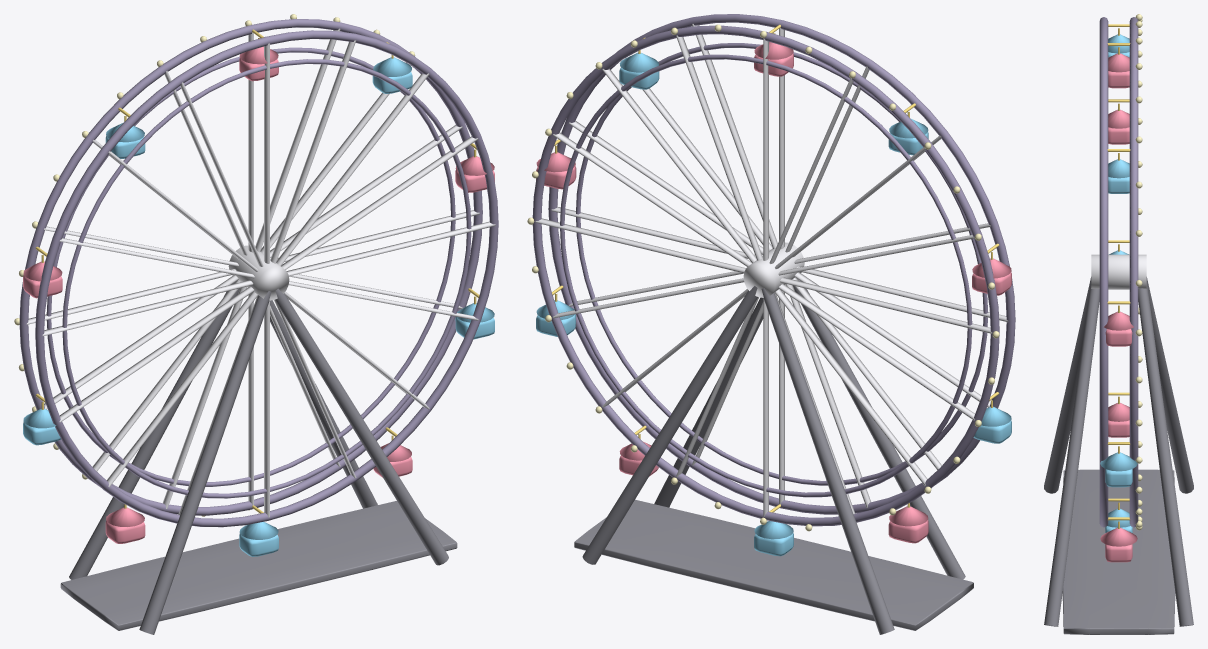
File: RockinRacewayWheel.glb
3 renders of one model, left to right at view 1: azimuth 30°, elevation 25°; view 2: azimuth 150°, elevation 25°; view 3: azimuth 270°, elevation 25°, orthographic. The views are drawn at different scales.
Visible parts, largest first — view 1: Spokes, Rim, Legs, GondolaB, GondolaA; view 2: Spokes, Rim, Legs, GondolaB, GondolaA, Lights; view 3: Legs, Rim, GondolaA, GondolaB, Spokes, Lights, Gold.
Part boxes in pixels (<box>): Spokes: <box>26,28,495,517</box>; Rim: <box>19,19,498,527</box>; Legs: <box>60,282,457,634</box>; GondolaB: <box>23,57,494,556</box>; GondolaA: <box>23,46,494,543</box>; Spokes: <box>535,24,1008,516</box>; Rim: <box>532,14,1015,526</box>; Legs: <box>574,279,973,634</box>; GondolaB: <box>536,52,1011,556</box>; GondolaA: <box>536,42,1011,543</box>; Lights: <box>527,24,999,531</box>; Legs: <box>1044,277,1193,634</box>; Rim: <box>1099,17,1138,527</box>; GondolaA: <box>1100,53,1137,562</box>; GondolaB: <box>1100,34,1137,532</box>; Spokes: <box>1091,254,1146,289</box>; Lights: <box>1135,14,1142,530</box>; Gold: <box>1107,24,1130,528</box>.
Size of the model in its own units: 41.16 by 45.86 by 11.93.
